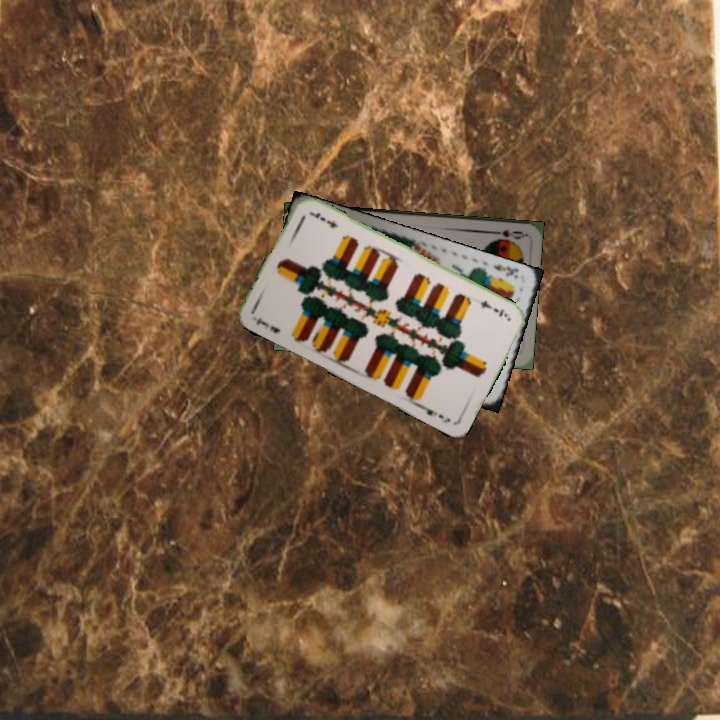E7: (476, 296, 510, 320), (252, 313, 283, 336)
EK: (489, 260, 521, 281)
SO: (486, 225, 527, 242)
